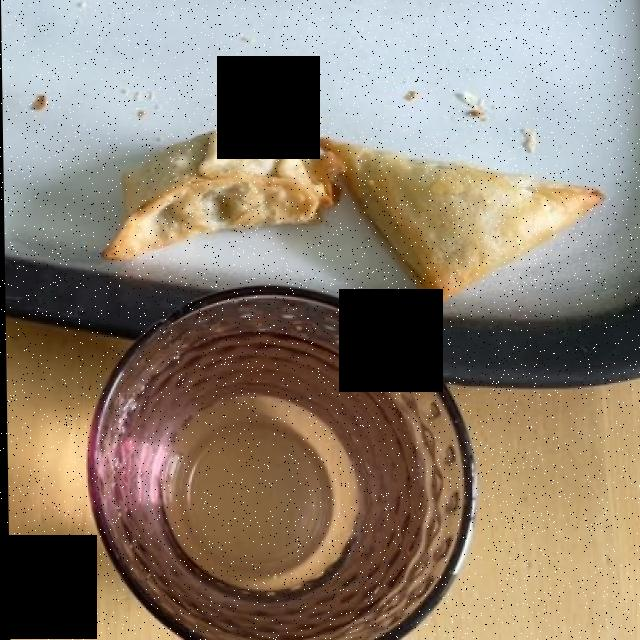water: (115, 316, 412, 626)
